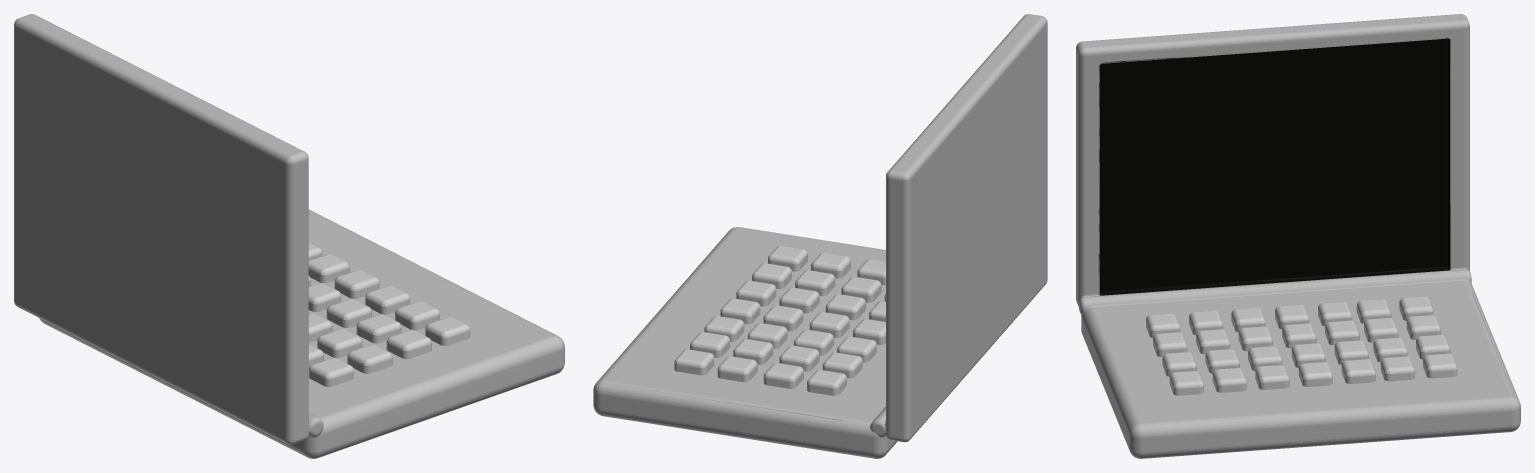
The model's file is notebook.obj.
3 views of the same model, side by side, from view 1: azimuth 30°, elevation 25°; view 2: azimuth 150°, elevation 25°; view 3: azimuth 270°, elevation 25° (orthographic). The views are drawn at different scales.
Visible parts, largest first — view 1: 282297_23_05_24_17_32_28_1, 282297_23_05_24_17_32_28_2; view 2: 282297_23_05_24_17_32_28_1, 282297_23_05_24_17_32_28_2; view 3: 282297_23_05_24_17_32_28_1, 282297_23_05_24_17_32_28_2.
Part boxes in pixels (x1,y1,x2,y2): 282297_23_05_24_17_32_28_1: [14, 14, 564, 458]; 282297_23_05_24_17_32_28_2: [308, 242, 470, 386]; 282297_23_05_24_17_32_28_1: [593, 14, 1047, 458]; 282297_23_05_24_17_32_28_2: [674, 245, 885, 395]; 282297_23_05_24_17_32_28_1: [1076, 14, 1520, 458]; 282297_23_05_24_17_32_28_2: [1146, 296, 1457, 395].
Bounding box in the file's own units: 2.24 × 1.8 × 2.54.
